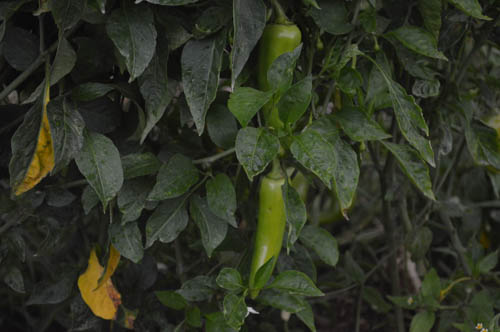ChiliPepper: (251, 179, 287, 294), (260, 26, 298, 110)
